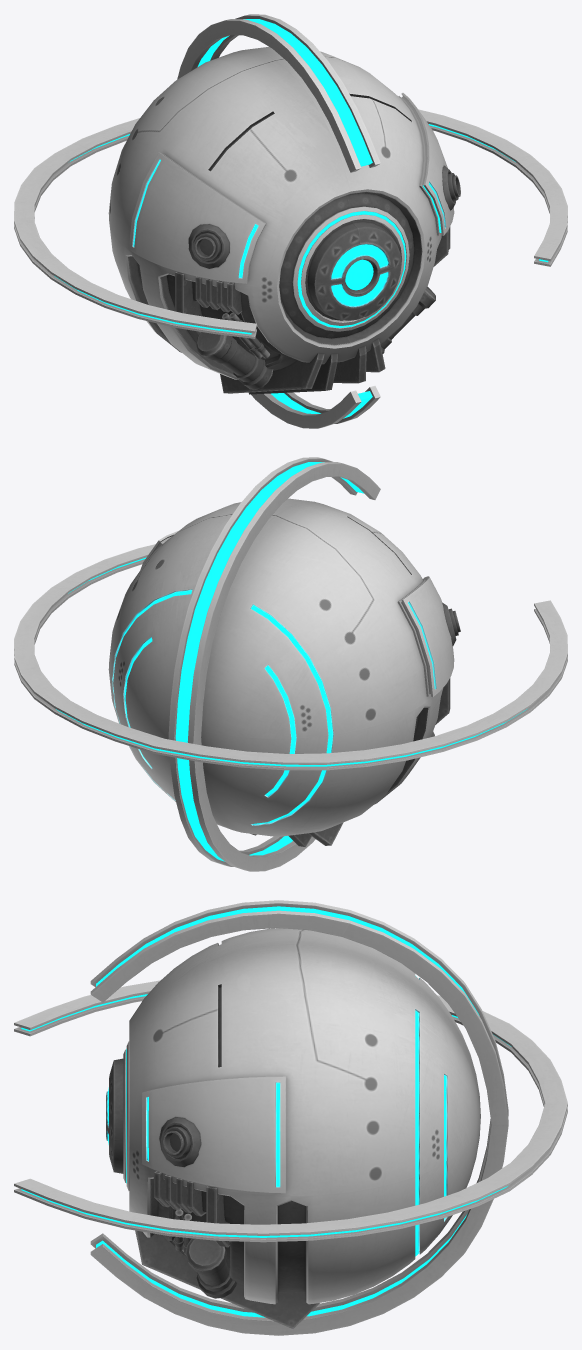
Rendered from uploads_files_4806760_Sphere_ship_03(FBX).fbx.
The picture shows the model from 3 angles, top to bottom: view 1: azimuth 30°, elevation 25°; view 2: azimuth 150°, elevation 25°; view 3: azimuth 270°, elevation 25°; orthographic projection. The views are drawn at different scales.
Parts seen in each view (by area): view 1: Sphere_ship_03_poly; view 2: Sphere_ship_03_poly; view 3: Sphere_ship_03_poly.
Part boxes in pixels (bbox=[...]): Sphere_ship_03_poly: bbox=[14, 14, 567, 428]; Sphere_ship_03_poly: bbox=[14, 457, 567, 871]; Sphere_ship_03_poly: bbox=[14, 900, 567, 1335].
Bounding box in the file's own units: 21.12 × 15.94 × 18.96.
